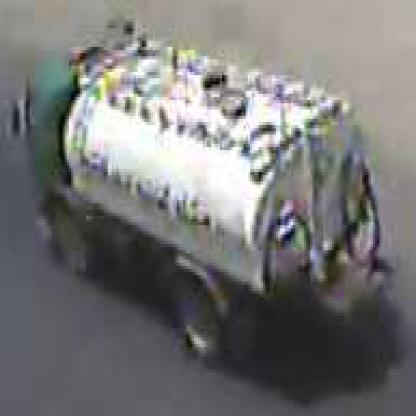truck: (25, 42, 374, 364)
